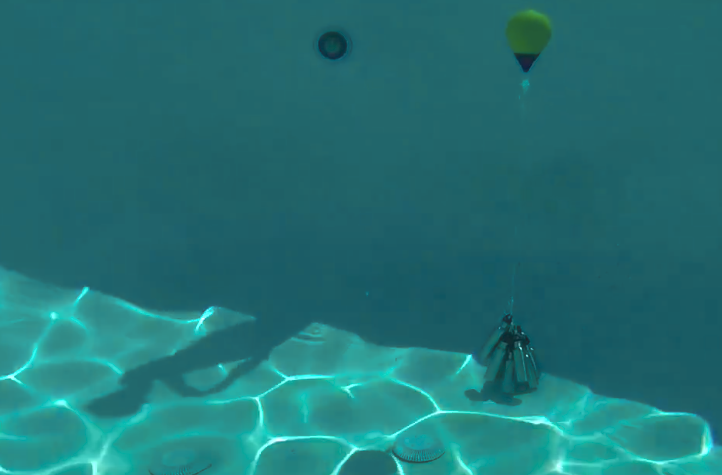yellow_buoy: (501, 7, 559, 76)
